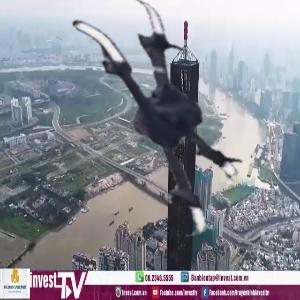drone: (22, 1, 264, 243)
